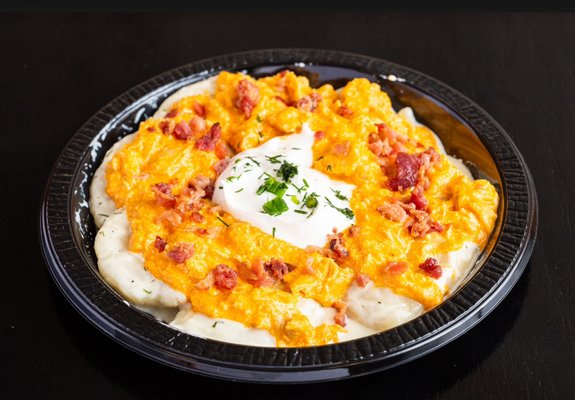curry: (1, 8, 556, 388)
sandwich: (98, 68, 500, 346)
